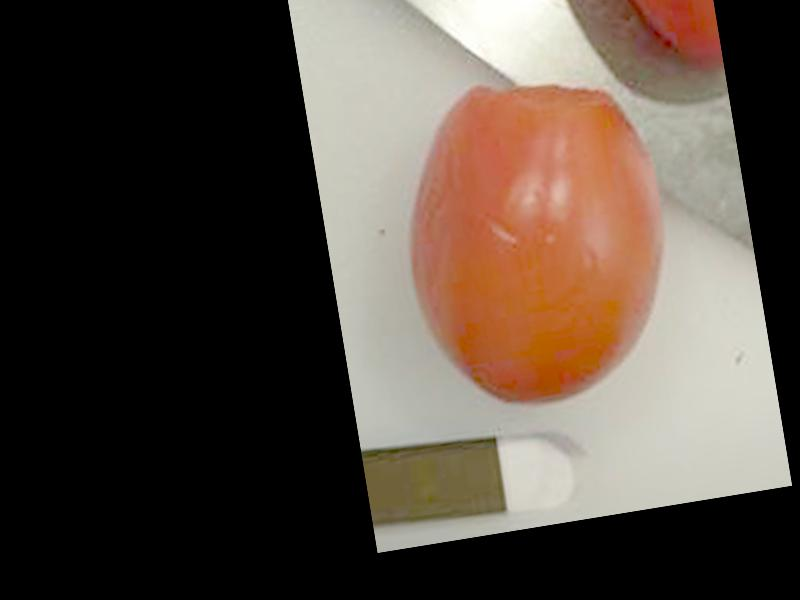Tomato: (384, 61, 691, 422)
